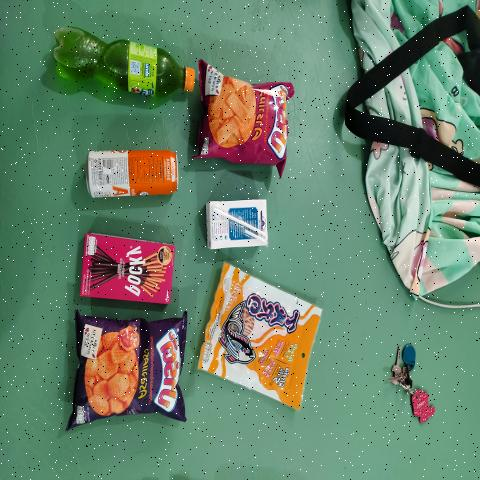fanta_green: (43, 38, 198, 96)
party_purple: (75, 322, 185, 422)
party_red: (208, 85, 285, 149)
pokki: (78, 237, 177, 303)
singha_yellow: (87, 150, 179, 196)
taro_yellow: (198, 278, 320, 391)
thai_denmark: (204, 198, 270, 250)
